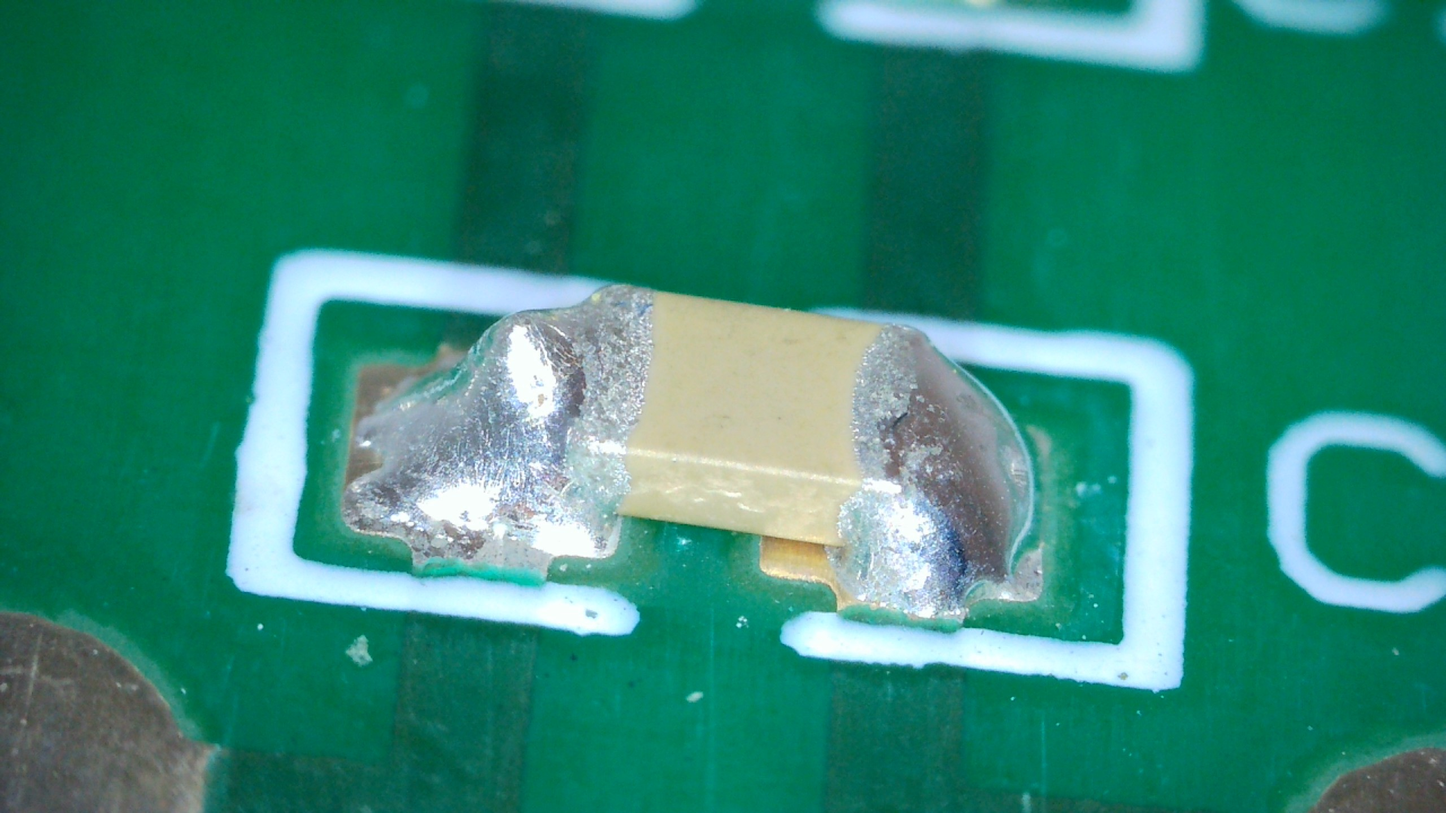NG: (347, 283, 651, 581), (821, 321, 1034, 614), (473, 323, 583, 455)
